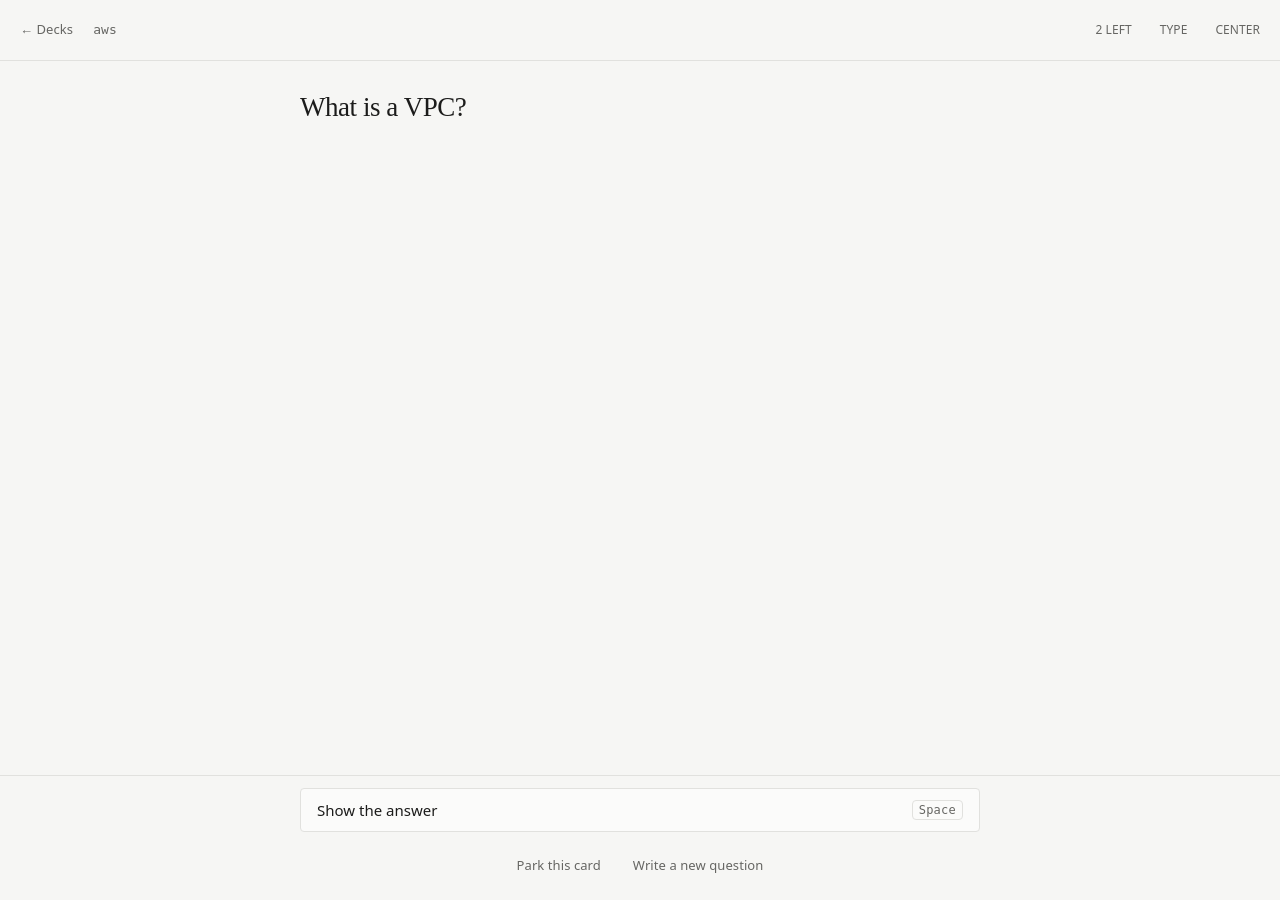
ReviewSession undoing the last step (#600) › #612 A1 a rating's refetch of a changed decks.md does not build the queue again
Expected: the field with class "cm-content" is shown, [300,92,466,122]
Click the button "Show the answer Space".
click(377, 810)  # box [300,788,980,832]
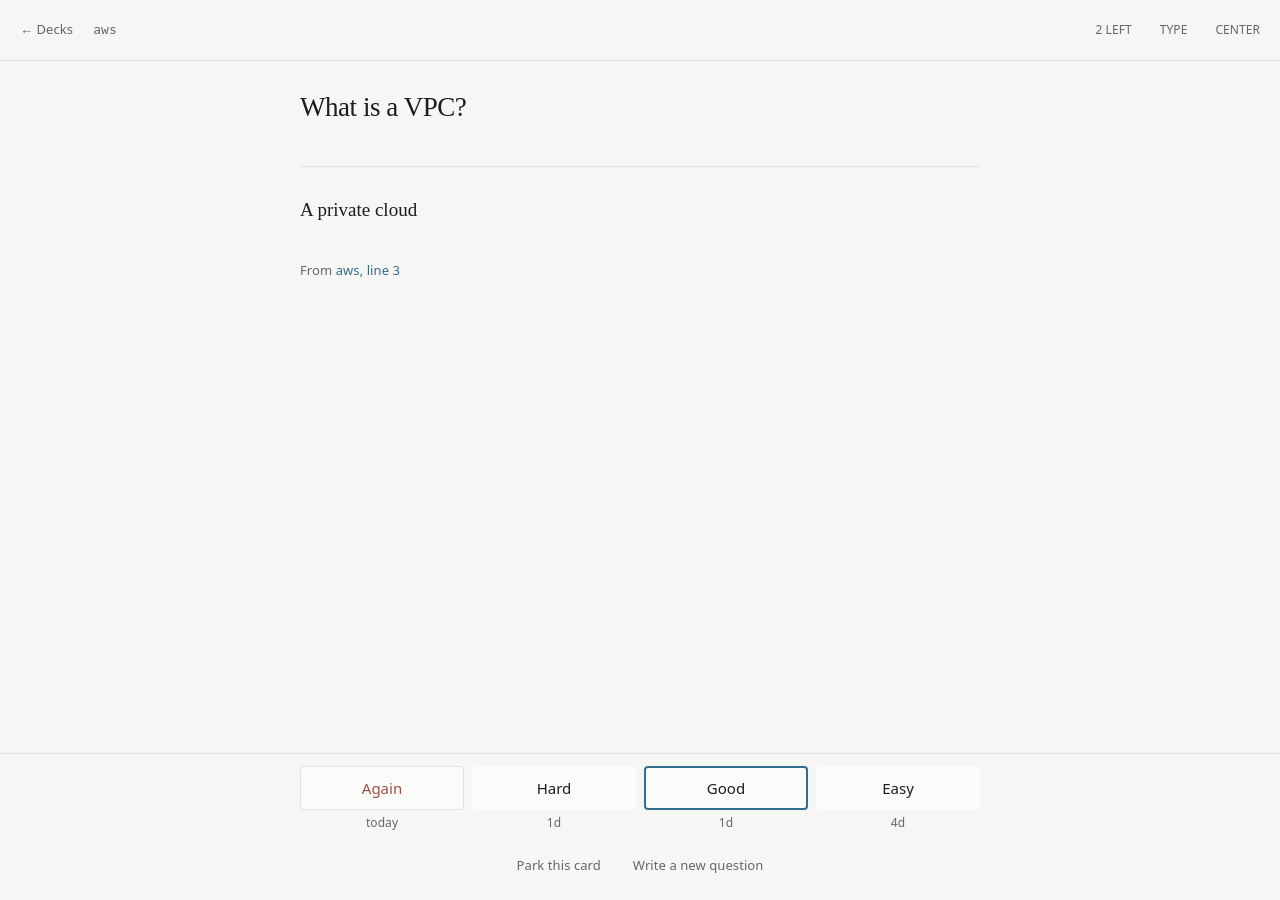
Click the button "Good".
click(726, 788)  # box [644,766,808,810]
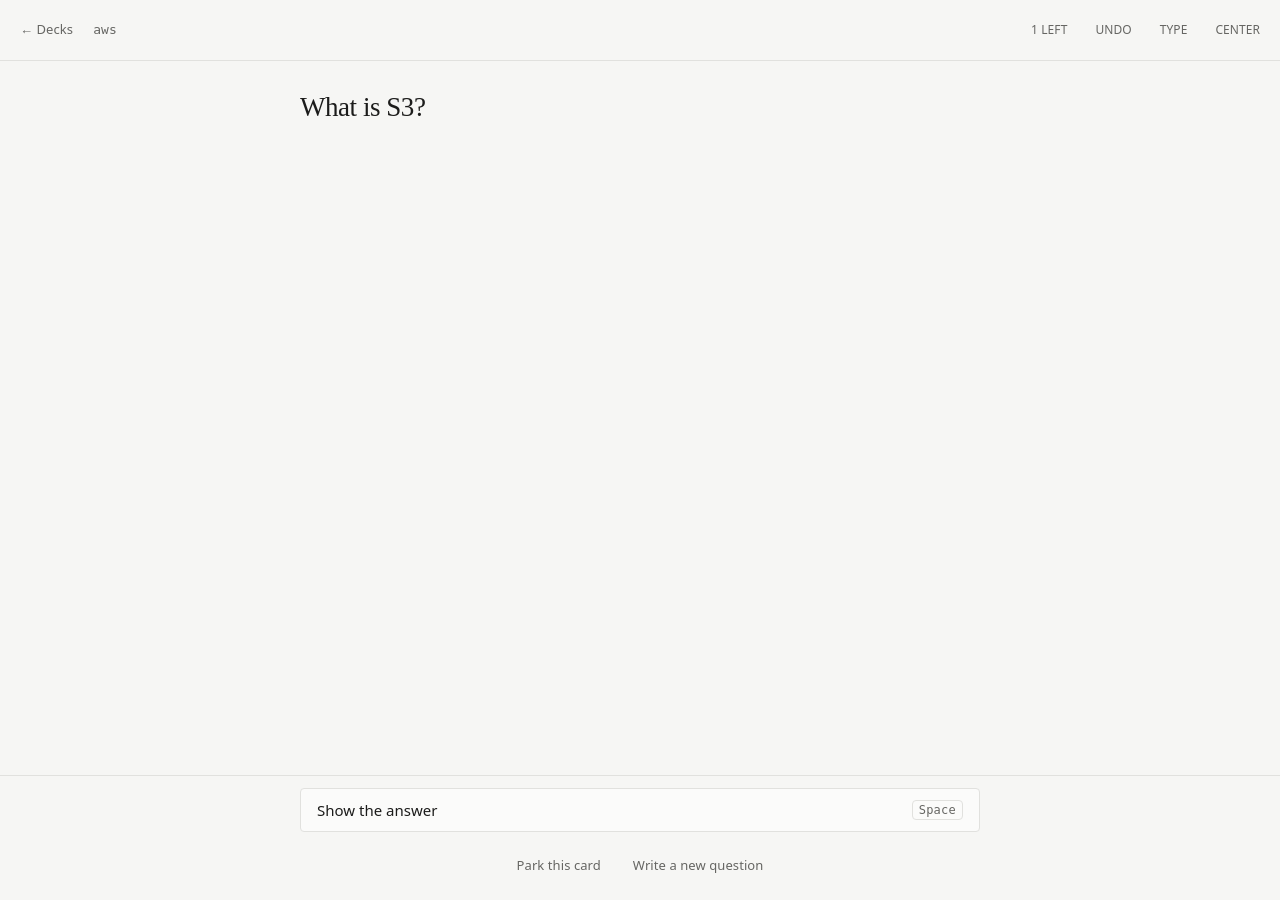
Result: the element with test id "review-card" reads "What is S3?" at [300,92,425,122]
Result: the text "1 left" is shown at [1031,21,1067,38]
